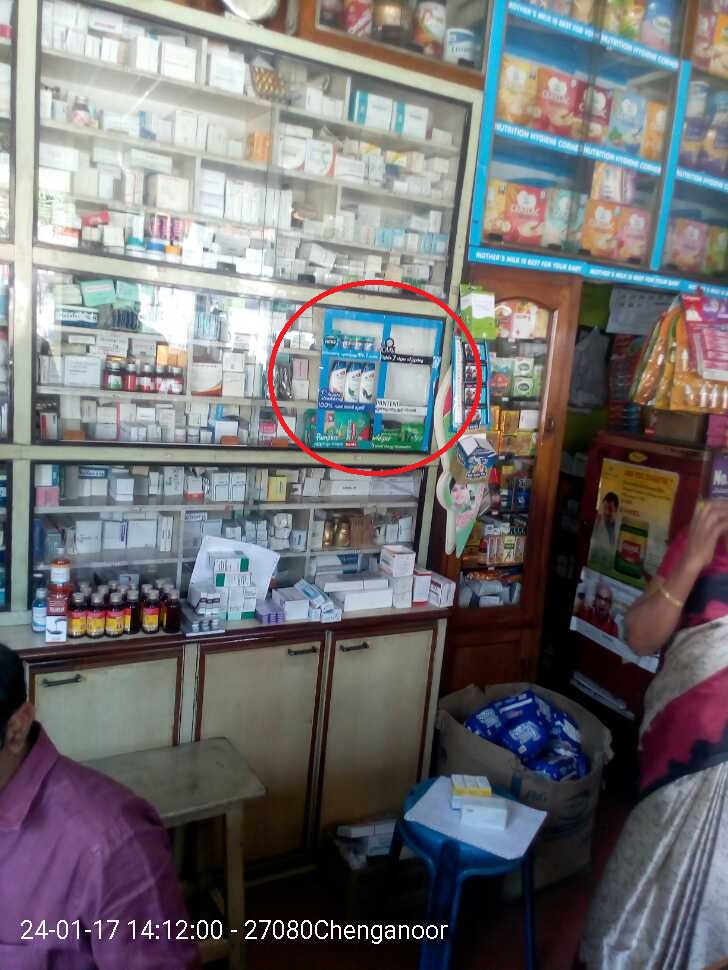beauty: (345, 362, 361, 403), (329, 360, 344, 398), (362, 365, 373, 401)
pharmacy: (305, 410, 369, 445), (381, 423, 403, 442), (406, 425, 424, 444), (340, 335, 351, 348), (353, 336, 362, 350), (364, 337, 374, 349)
